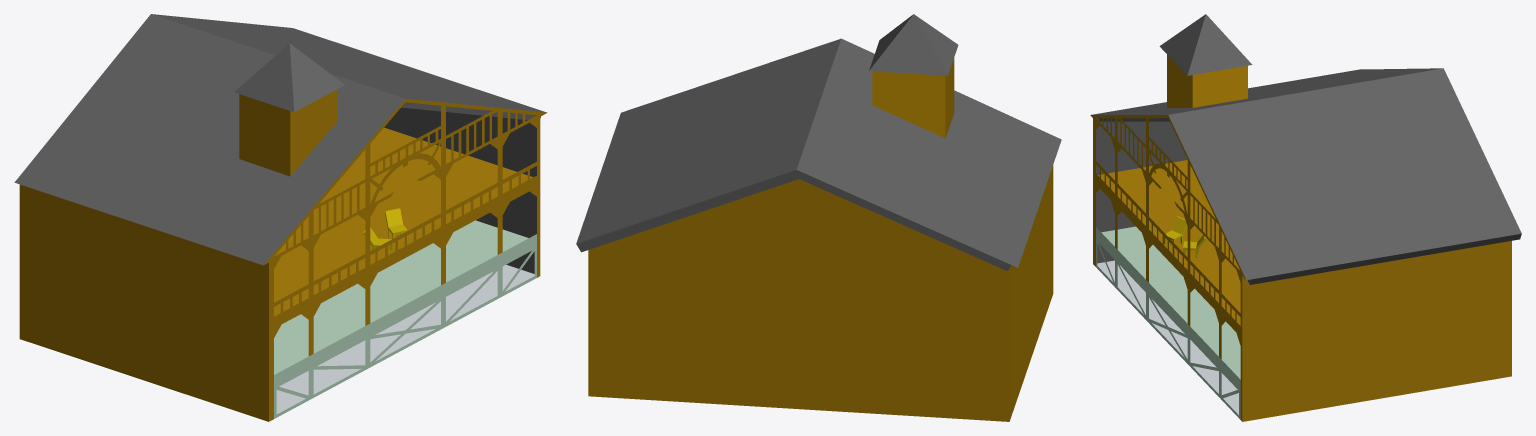
The model's file is Porch_HotChoco.gltf.
The picture shows the model from 3 angles, left to right: view 1: azimuth 30°, elevation 25°; view 2: azimuth 150°, elevation 25°; view 3: azimuth 270°, elevation 25°; orthographic projection. The views are drawn at different scales.
Visible parts, largest first — view 1: Mesh5 PR1 Model, Mesh4 PR1 Model, Mesh6 PR1 Model; view 2: Mesh5 PR1 Model, Mesh4 PR1 Model, Mesh6 PR1 Model; view 3: Mesh5 PR1 Model, Mesh6 PR1 Model, Mesh4 PR1 Model.
Boxes of the visible parts, bbox=[...] form: Mesh5 PR1 Model: bbox=[14, 14, 547, 421]; Mesh4 PR1 Model: bbox=[239, 89, 337, 176]; Mesh6 PR1 Model: bbox=[234, 43, 344, 112]; Mesh5 PR1 Model: bbox=[576, 38, 1061, 421]; Mesh4 PR1 Model: bbox=[872, 58, 954, 138]; Mesh6 PR1 Model: bbox=[869, 14, 958, 75]; Mesh5 PR1 Model: bbox=[1090, 68, 1521, 421]; Mesh6 PR1 Model: bbox=[1159, 14, 1252, 75]; Mesh4 PR1 Model: bbox=[1167, 54, 1247, 107].
Size of the model in its own units: 2399 by 1524 by 2078.
